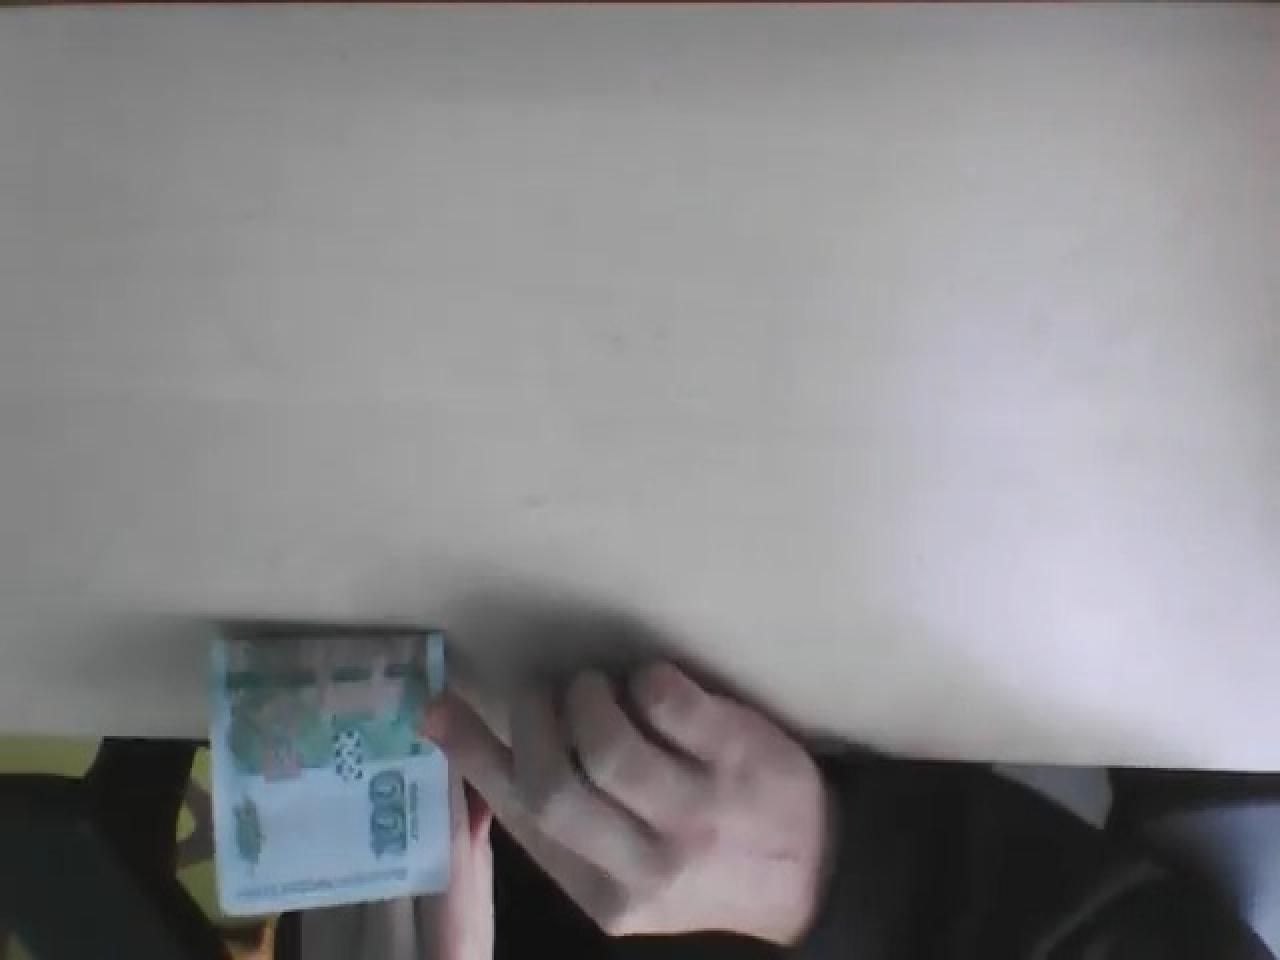100leva: (206, 629, 456, 920)
